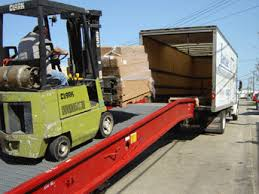Pallet Jack: (1, 1, 124, 164)
